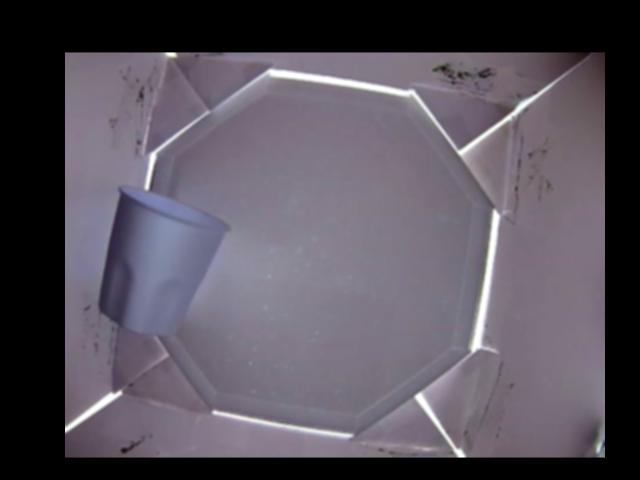Cup: (94, 186, 230, 335)
